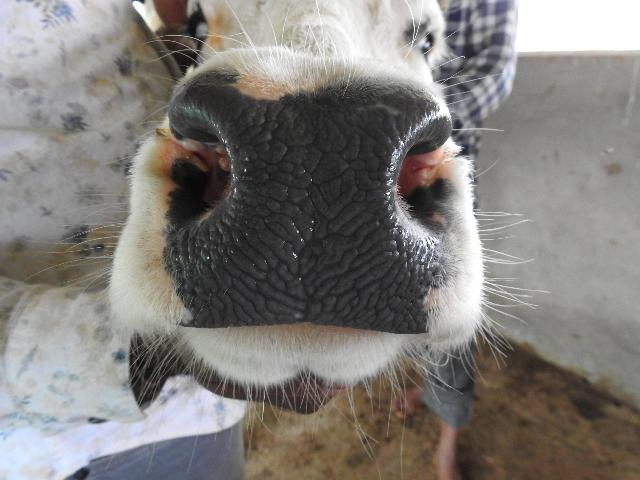Muzzle: (210, 100, 428, 328)
